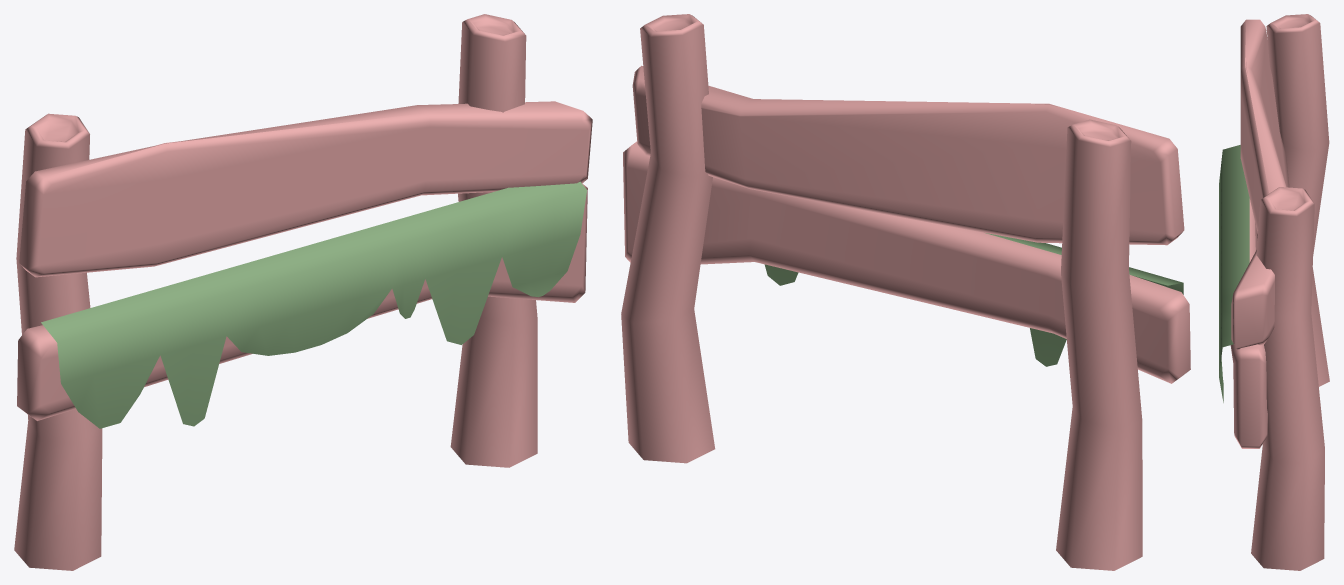
The model's file is Fence_1.fbx.
The picture shows the model from 3 angles, left to right: view 1: azimuth 30°, elevation 25°; view 2: azimuth 150°, elevation 25°; view 3: azimuth 270°, elevation 25°; orthographic projection. The views are drawn at different scales.
Visible parts, largest first — view 1: Fence_1; view 2: Fence_1; view 3: Fence_1.
Part boxes in pixels (left/top/right/bottom): Fence_1: left=14, top=14, right=592, bottom=570; Fence_1: left=621, top=14, right=1190, bottom=570; Fence_1: left=1219, top=14, right=1329, bottom=570.
Size of the model in its own units: 127 by 92.63 by 25.84.
